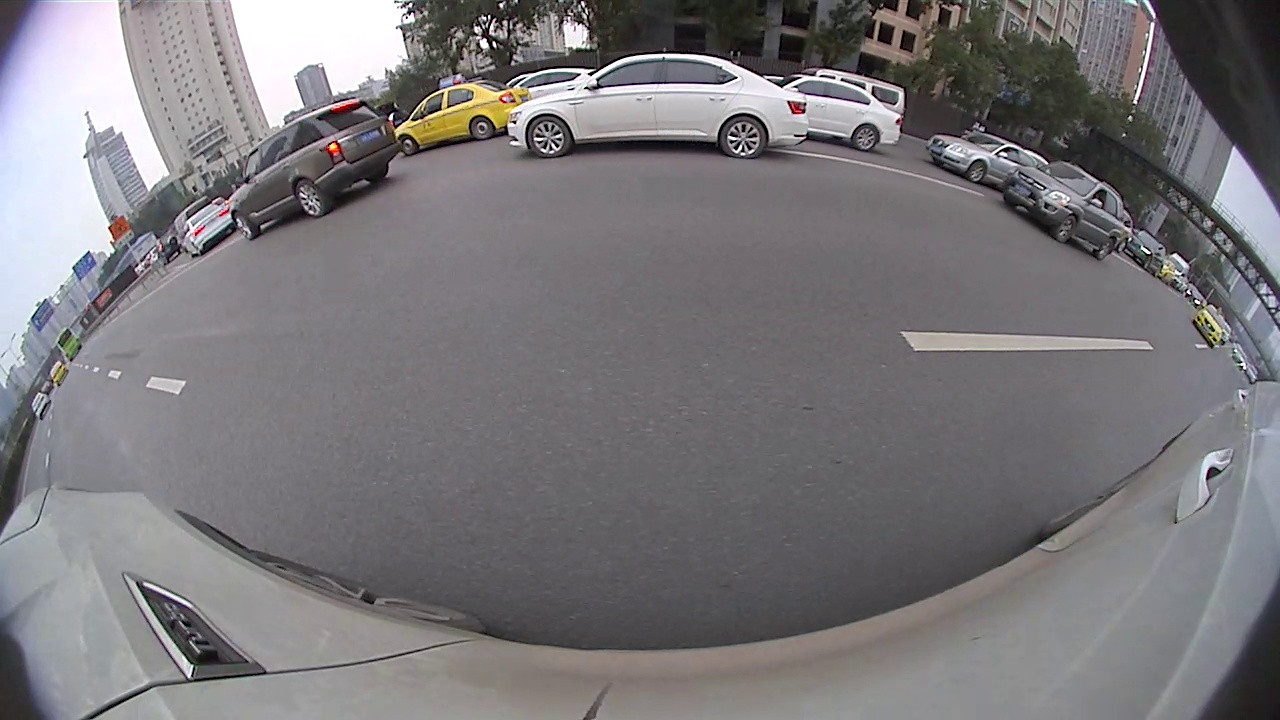bus: (925, 150, 1150, 208), (1189, 219, 1279, 325)
car: (0, 292, 206, 504), (1097, 279, 1279, 454), (920, 187, 1137, 290), (1041, 188, 1221, 287), (709, 135, 828, 213), (482, 151, 569, 209), (867, 172, 946, 214), (601, 150, 652, 192), (821, 163, 867, 208)
front: (54, 372, 160, 499), (1134, 339, 1229, 455), (933, 210, 955, 238), (708, 172, 718, 196)
rear: (1036, 245, 1069, 281), (735, 172, 750, 205), (896, 195, 910, 215), (545, 180, 553, 201)
rider: (662, 137, 697, 200)
